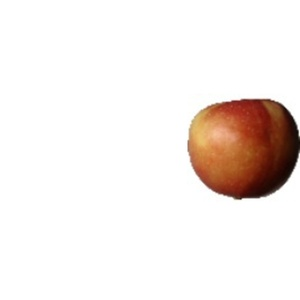maçã braeburn: (183, 97, 298, 197)
